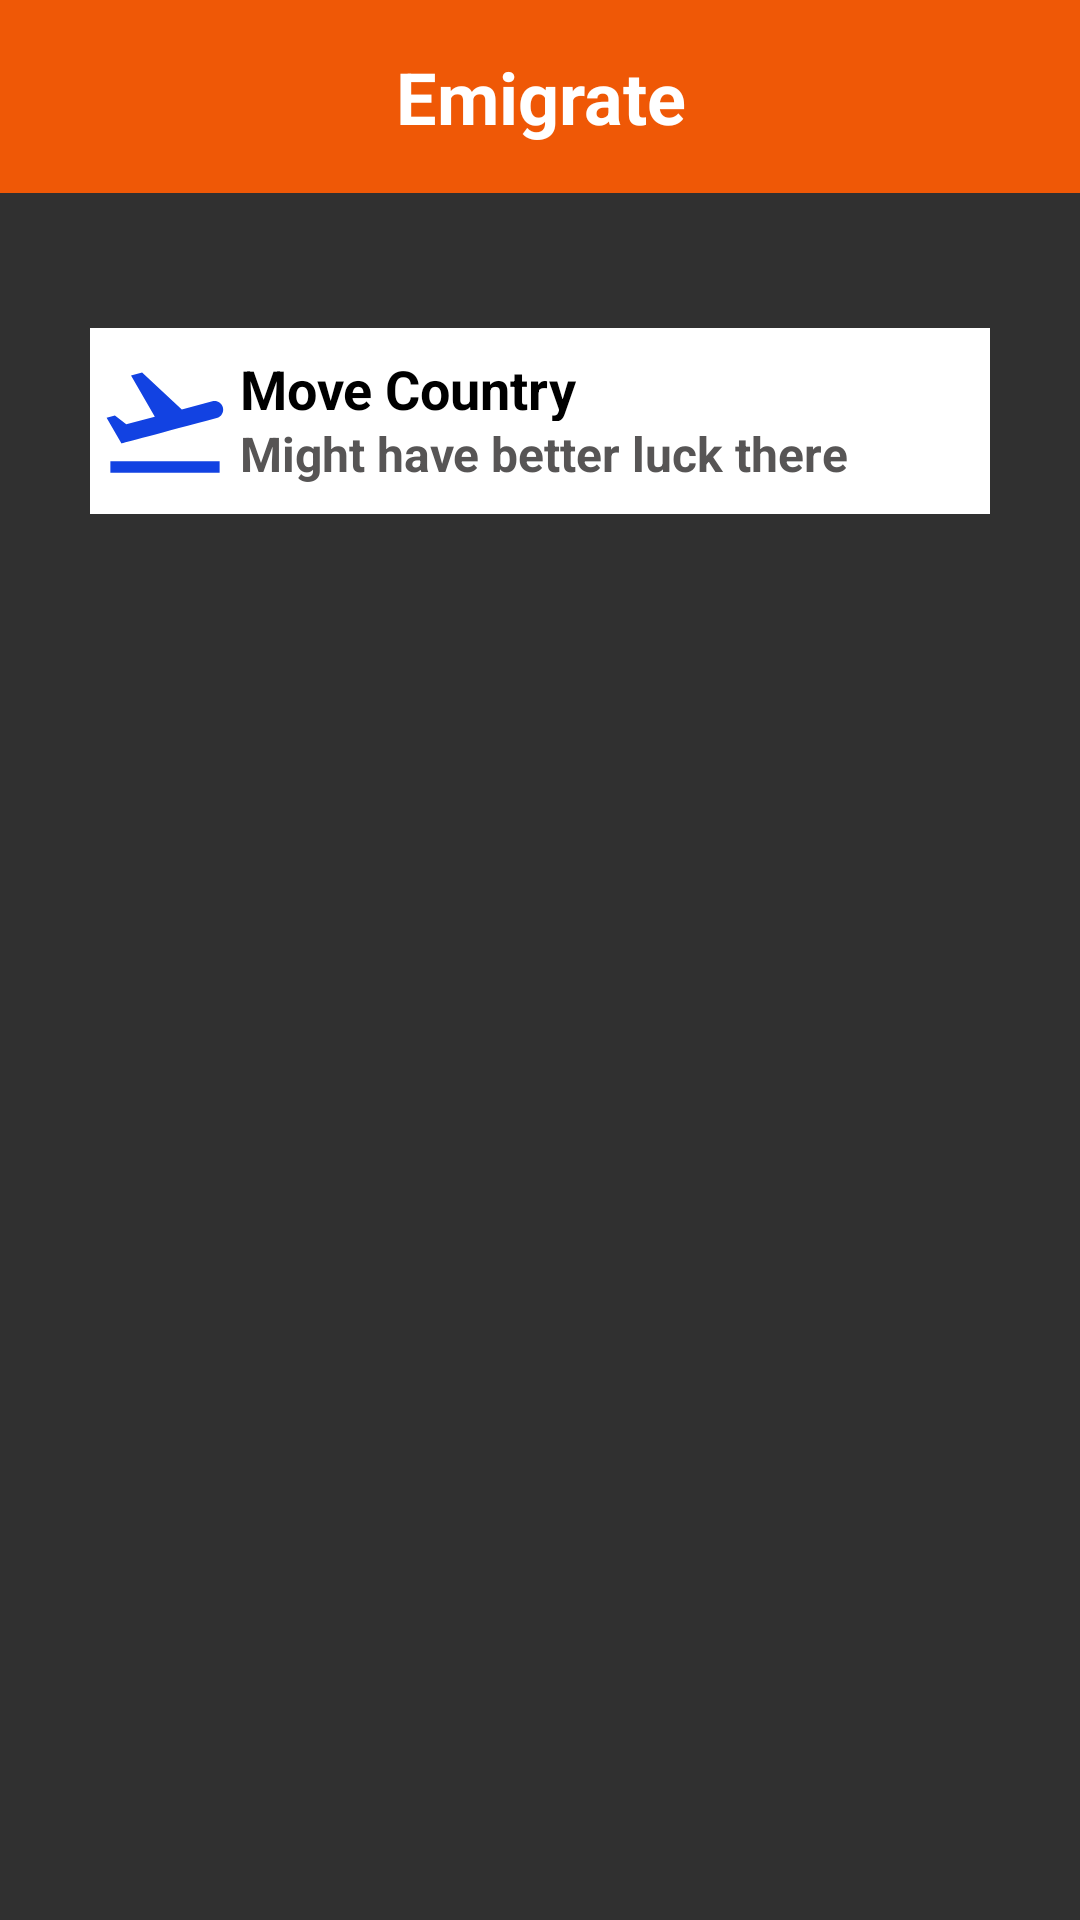

Where icons sit on this 1080 x 1920 app screen, as Rect(x1, y1, x2, y2):
fly: Rect(106, 372, 224, 473)
